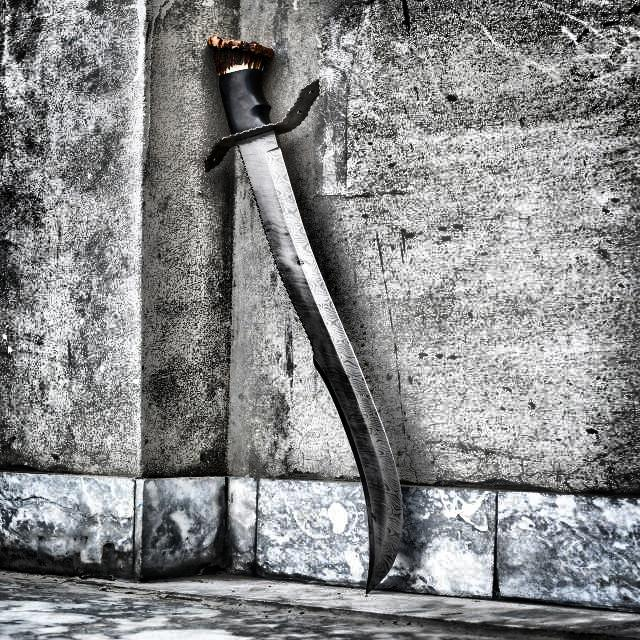knife: (205, 42, 418, 590)
